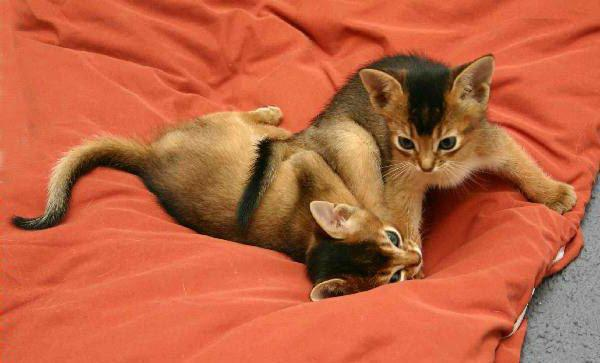cat: (12, 106, 422, 301), (233, 43, 575, 239)
